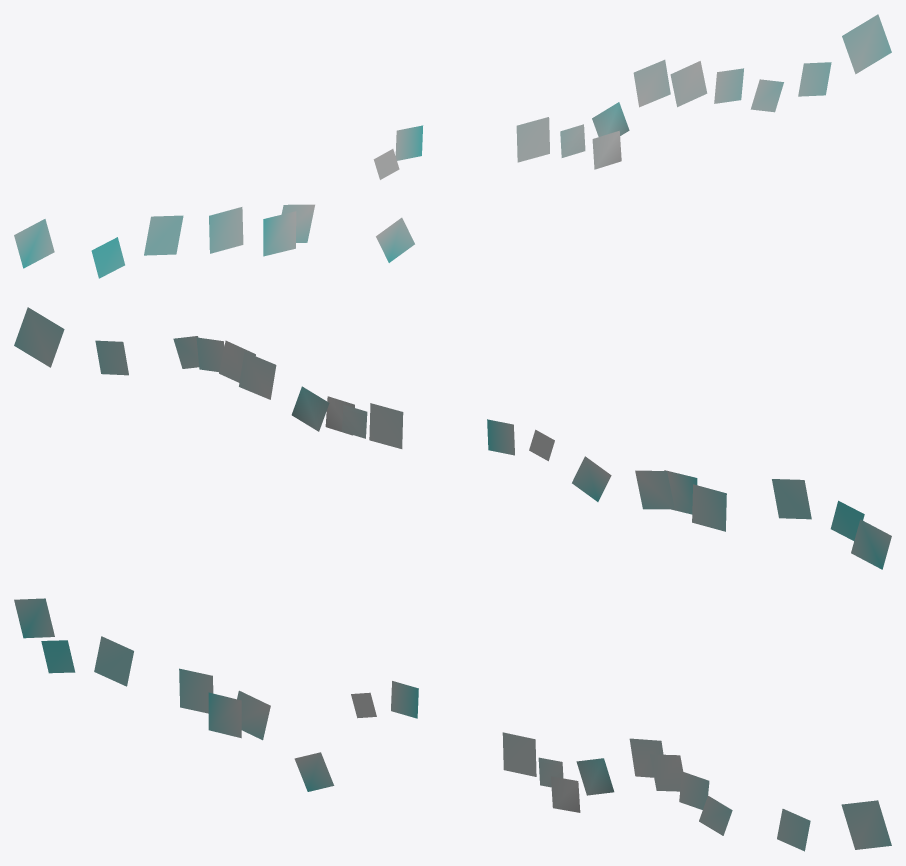
The model's file is WaterSpray_V2.fbx.
3 renders of one model, top to bottom at view 1: azimuth 30°, elevation 25°; view 2: azimuth 150°, elevation 25°; view 3: azimuth 330°, elevation 25°, orthographic.
Parts seen in each view (by area): view 1: WaterSpray_V2_01; view 2: WaterSpray_V2_01; view 3: WaterSpray_V2_01.
Boxes of the visible parts, x1=… form: WaterSpray_V2_01: x1=14, y1=14, x2=891, y2=278; WaterSpray_V2_01: x1=14, y1=307, x2=891, y2=569; WaterSpray_V2_01: x1=14, y1=598, x2=891, y2=851.
Size of the model in its own units: 1656 by 181 by 138.
